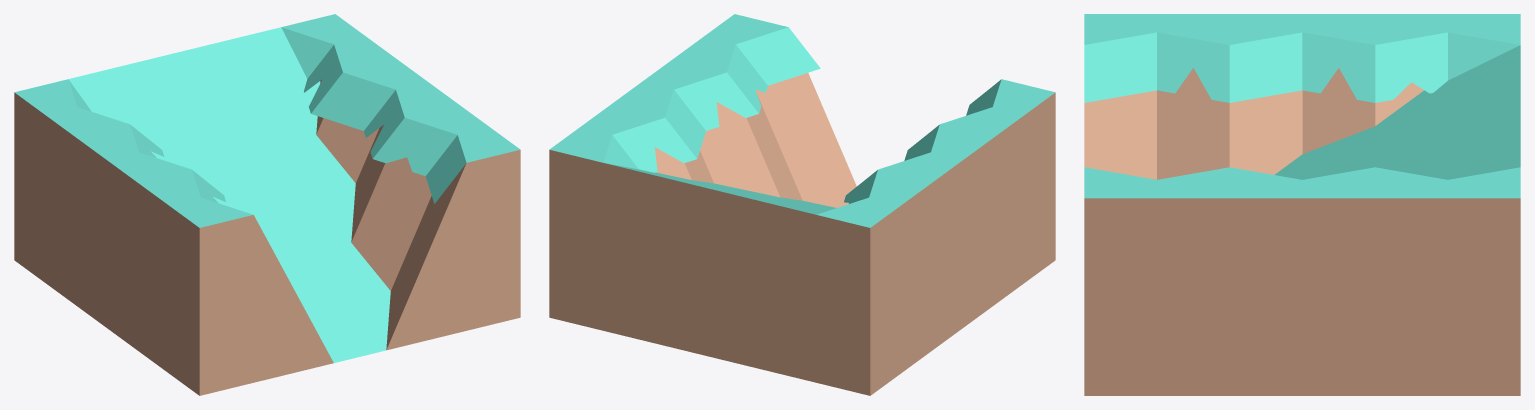
File: cliff_blockSlopeHalfWalls_rock.gltf
3 renders of one model, left to right at view 1: azimuth 30°, elevation 25°; view 2: azimuth 150°, elevation 25°; view 3: azimuth 270°, elevation 25°, orthographic. The views are drawn at different scales.
Visible parts, largest first — view 1: cliff_blockSlopeHalfWalls_rock; view 2: cliff_blockSlopeHalfWalls_rock; view 3: cliff_blockSlopeHalfWalls_rock.
Part boxes in pixels (x1,y1,x2,y2): cliff_blockSlopeHalfWalls_rock: [14, 14, 520, 395]; cliff_blockSlopeHalfWalls_rock: [549, 14, 1055, 395]; cliff_blockSlopeHalfWalls_rock: [1084, 14, 1520, 395].
Bounding box in the file's own units: 1 × 0.5 × 1.
